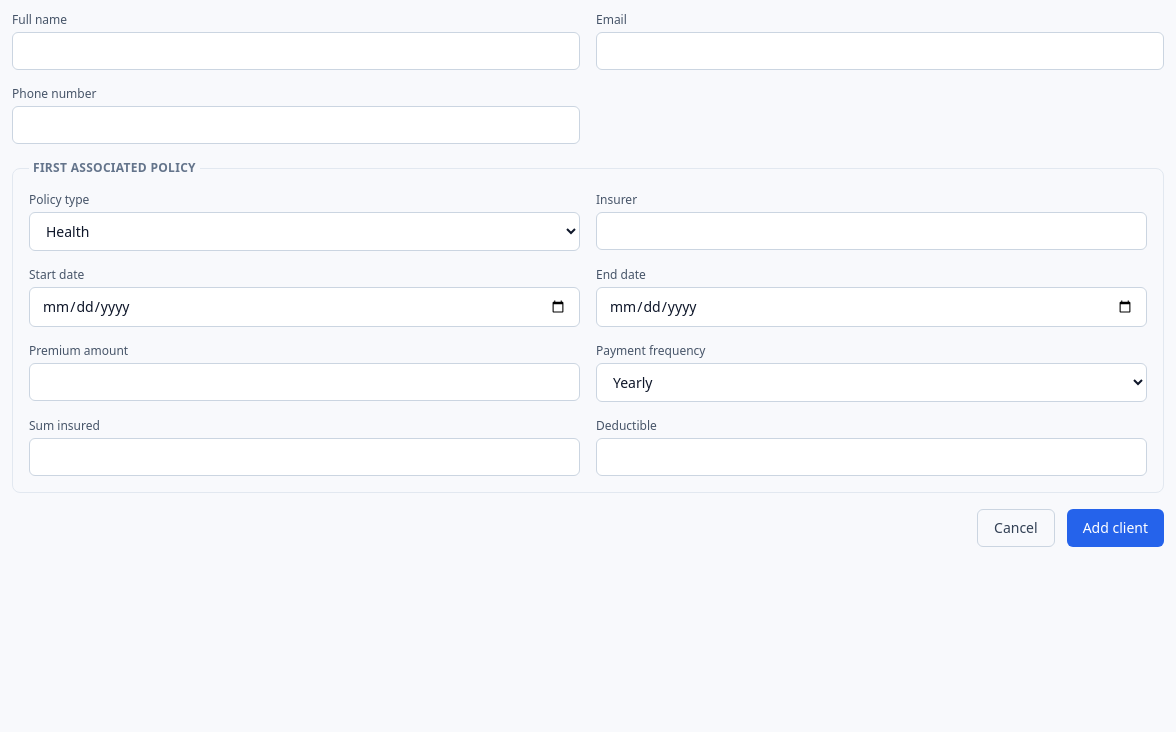
Test: ClientForm (R10.5) › blocks submission and shows required-field errors when empty
This screenshot has width=1176, height=732.
Click the button "Add client".
click(1115, 528)  # box x1=1067 y1=509 x2=1164 y2=547
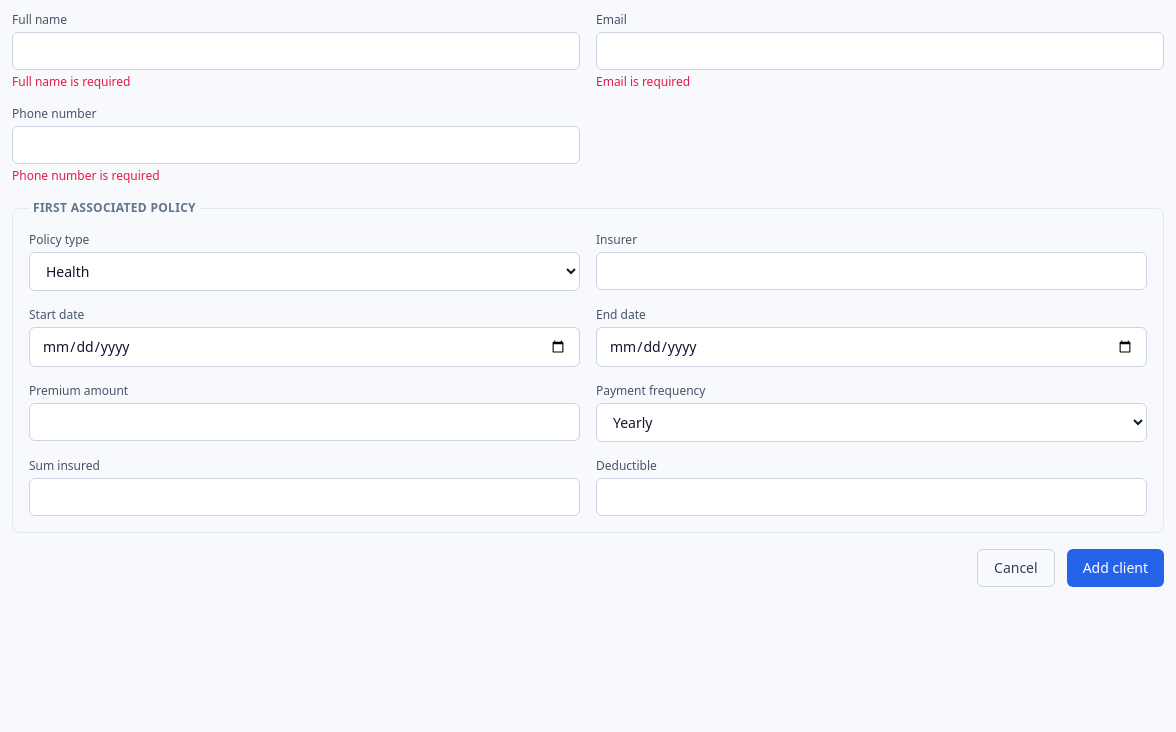
Now the text "Full name is required" is shown, box x1=12 y1=73 x2=130 y2=90
Now the text "Email is required" is shown, box x1=596 y1=73 x2=690 y2=90
Now the text "Phone number is required" is shown, box x1=12 y1=167 x2=160 y2=184
